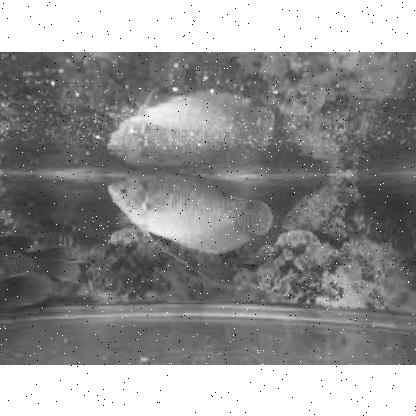gurame: (107, 168, 269, 252)
